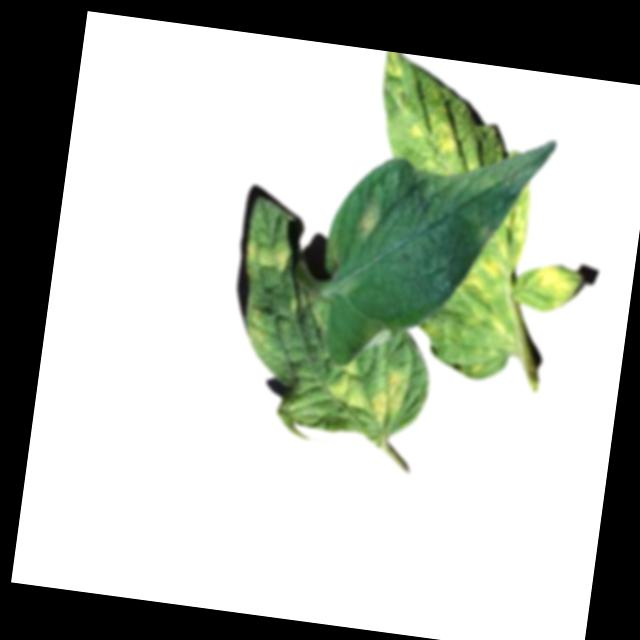Leaf_Mold: (454, 180, 534, 346), (323, 352, 412, 429), (408, 107, 464, 159), (530, 262, 583, 308), (245, 236, 294, 272), (245, 305, 272, 349), (381, 51, 411, 83), (355, 207, 380, 244)
